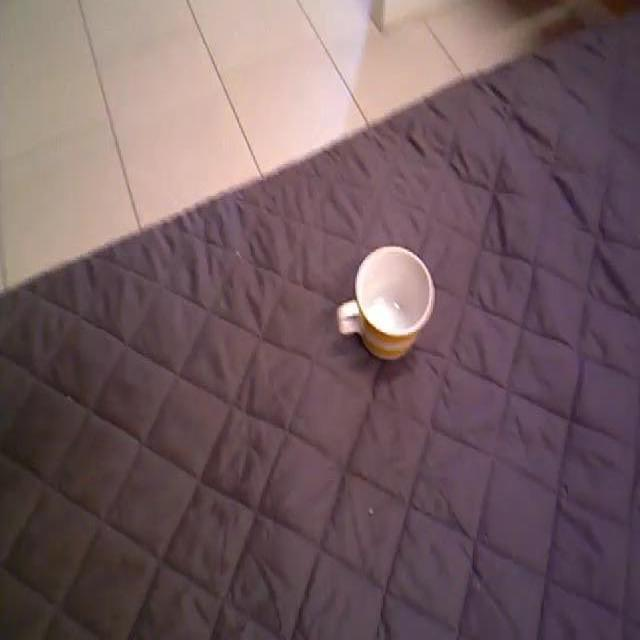cup: (334, 241, 436, 364)
